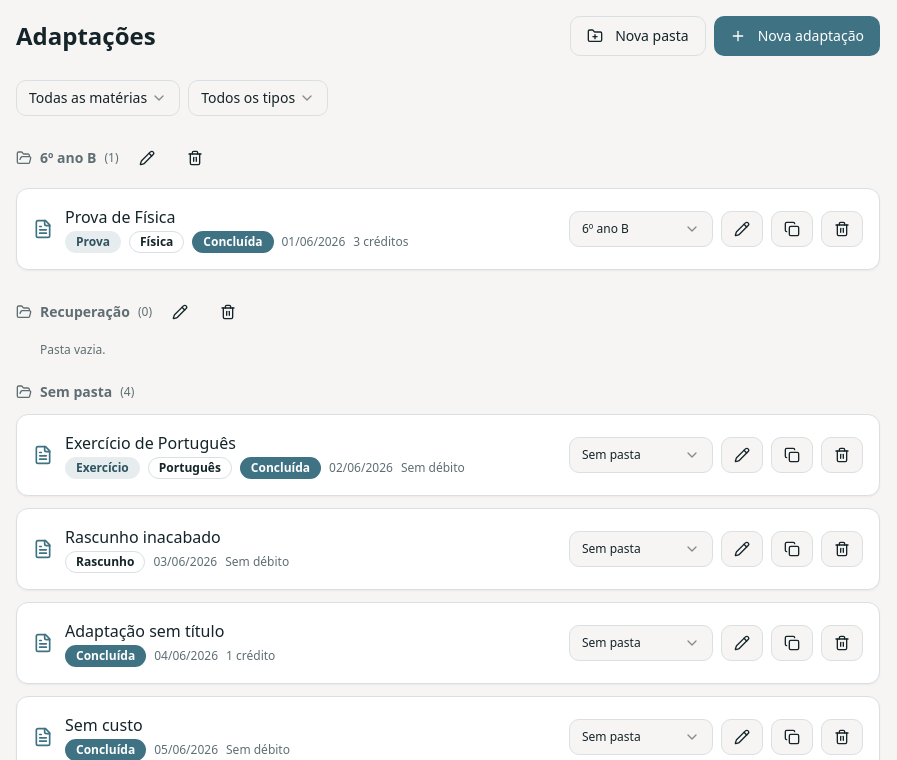
it: AdaptacoesPage › filtros › filters by tipo
Step 1. Click the dropdown named "Filtrar por tipo" → (258, 98), box [188,80,328,116]
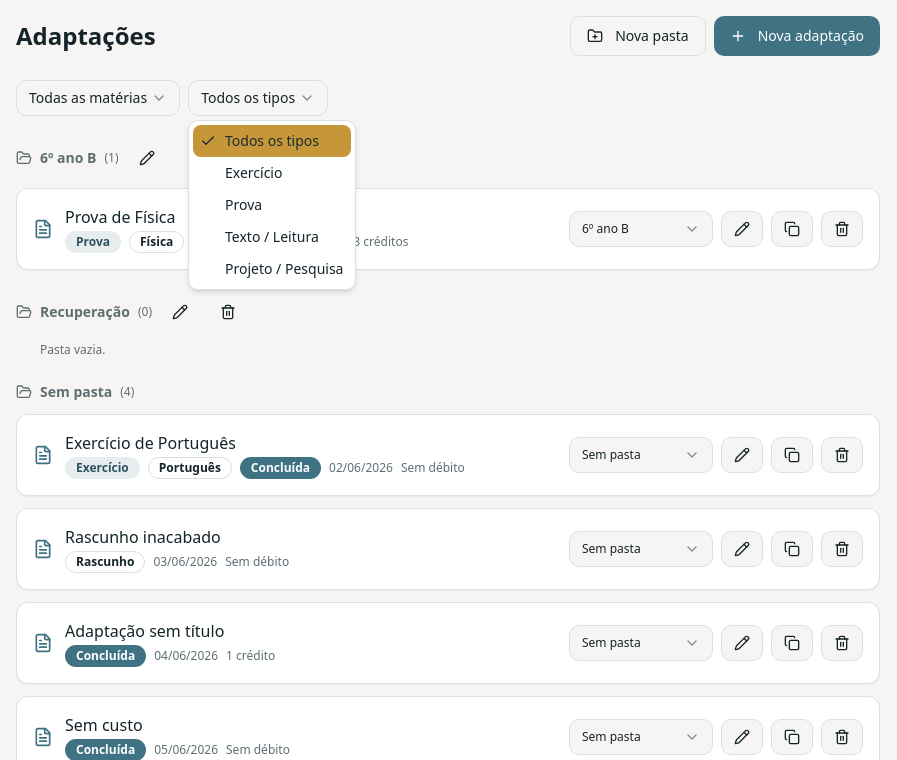
Expected: the option "Prova" is shown
Step 2. Click the option "Prova" → (244, 204), box [225,195,262,214]
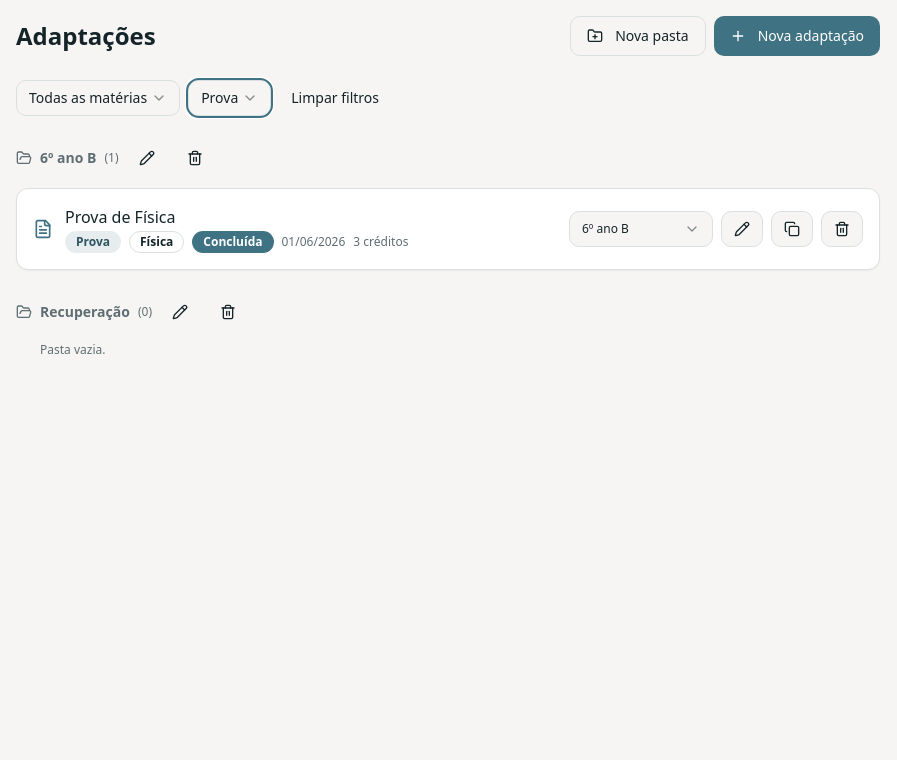
Expected: the text "Prova de Física" is shown, [65,206,176,228]
Expected: the text "Exercício de Português" is gone
